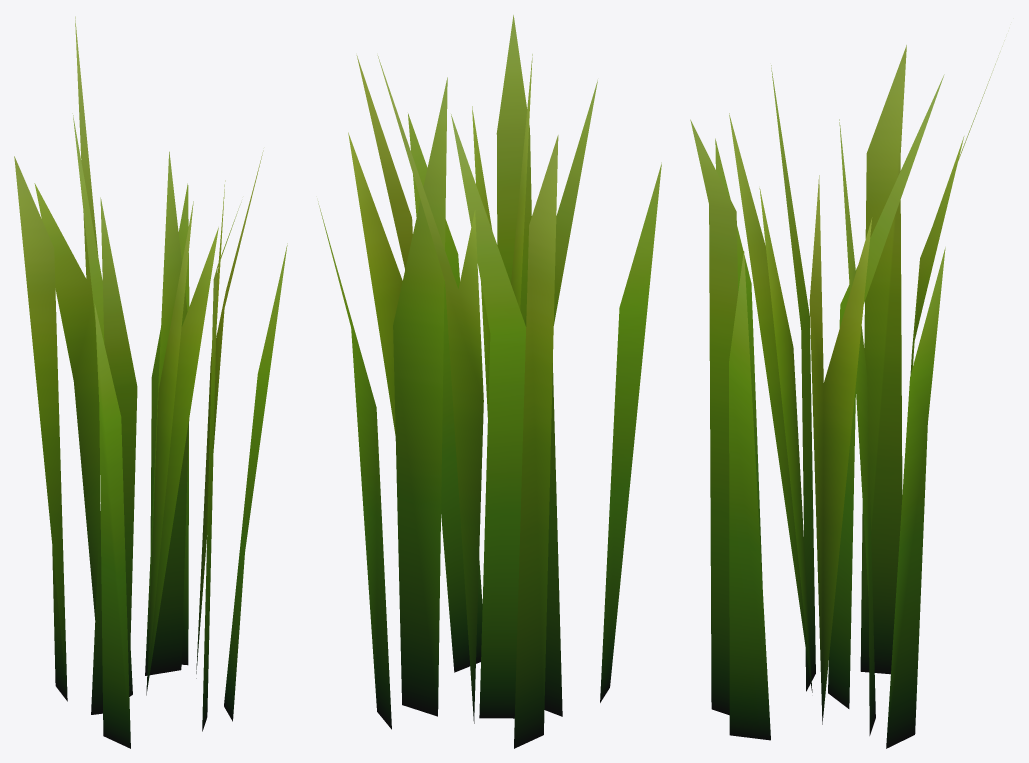
The model's file is grass-4.glb.
3 views of the same model, side by side, from view 1: azimuth 30°, elevation 25°; view 2: azimuth 150°, elevation 25°; view 3: azimuth 270°, elevation 25° (orthographic). The views are drawn at different scales.
Parts seen in each view (by area): view 1: Grass_Common_Tall; view 2: Grass_Common_Tall; view 3: Grass_Common_Tall.
Boxes of the visible parts, left/top/right/bottom form: Grass_Common_Tall: left=14, top=16, right=287, bottom=748; Grass_Common_Tall: left=318, top=15, right=661, bottom=748; Grass_Common_Tall: left=690, top=40, right=1004, bottom=748.
Size of the model in its own units: 0.0905 by 0.2489 by 0.1041.
Materials: 1 (1 with a texture image).
